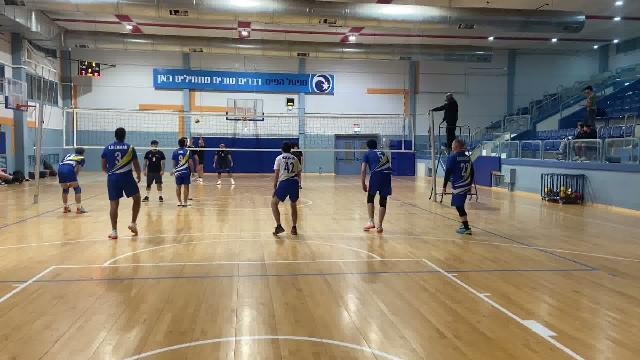ball: (192, 117, 204, 124)
